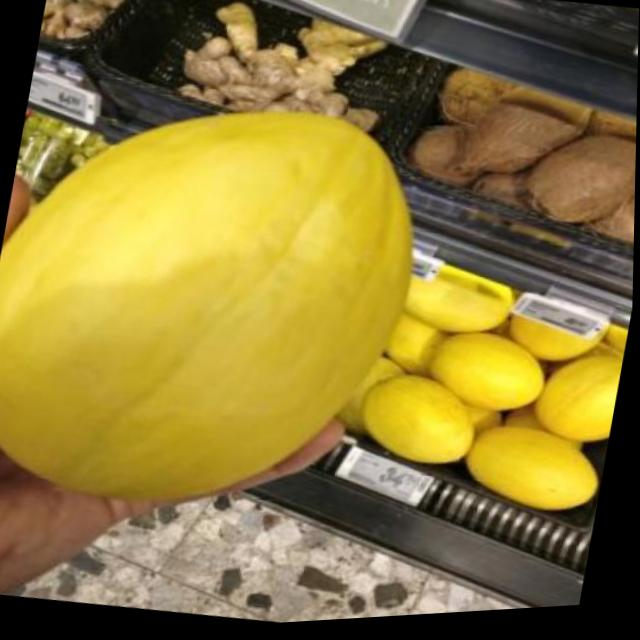Honeydew: (0, 66, 440, 544)
